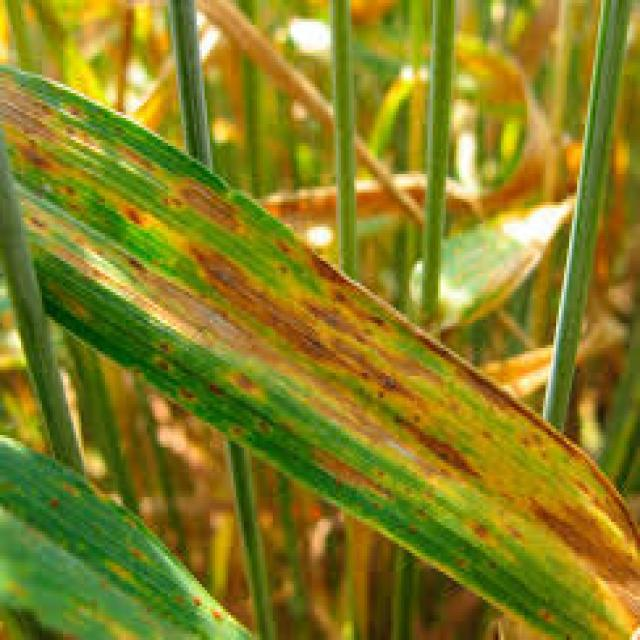wheat-septoria: (0, 65, 640, 640)
